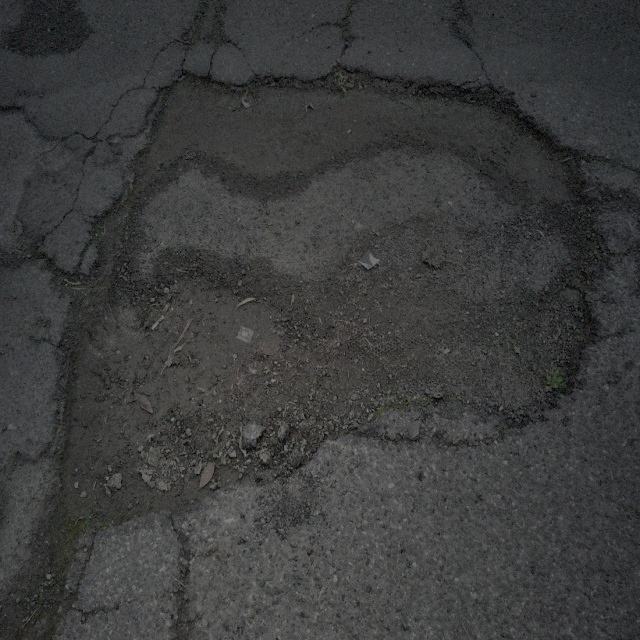pothole: (56, 58, 604, 543)
